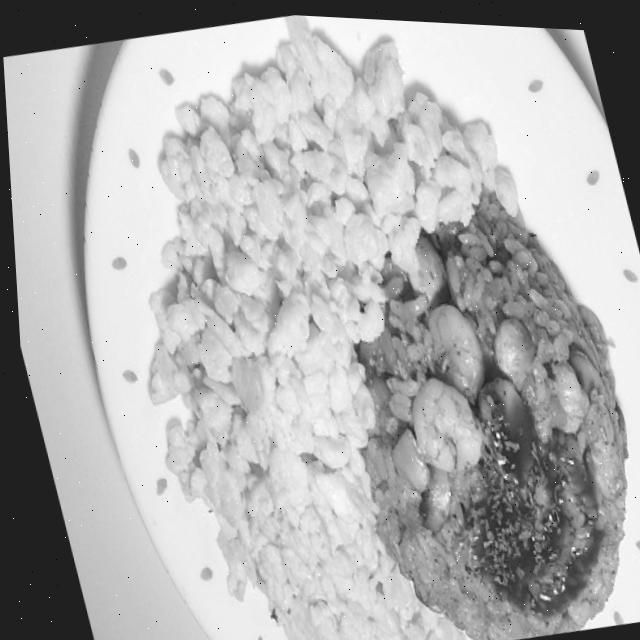鸡蛋料理: (33, 1, 640, 640)
